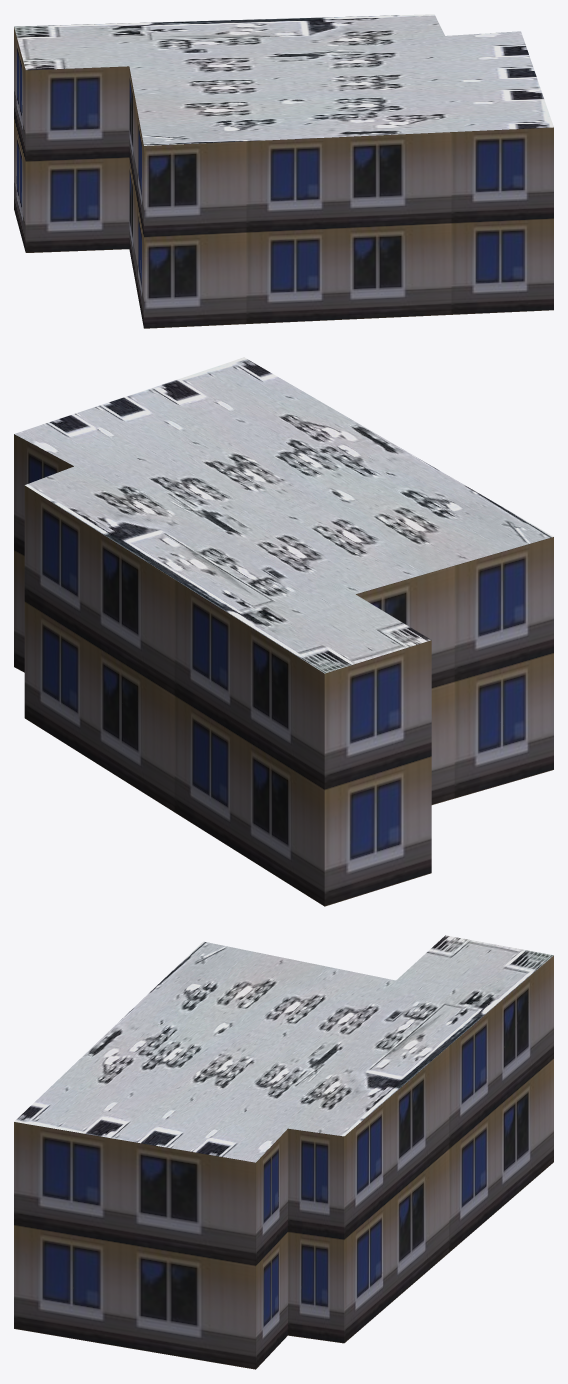
File: ResTex__2674.fbx
3 renders of one model, top to bottom at view 1: azimuth 30°, elevation 25°; view 2: azimuth 150°, elevation 25°; view 3: azimuth 270°, elevation 25°, orthographic. The views are drawn at different scales.
Parts seen in each view (by area): view 1: CityEngineMaterial_5_m, CityEngineMaterial_8_m; view 2: CityEngineMaterial_5_m, CityEngineMaterial_8_m; view 3: CityEngineMaterial_5_m, CityEngineMaterial_8_m.
Boxes of the visible parts, box(x1,y1,x2,y2) form: CityEngineMaterial_5_m: box(14, 27, 553, 328); CityEngineMaterial_8_m: box(14, 14, 553, 145); CityEngineMaterial_5_m: box(14, 434, 553, 906); CityEngineMaterial_8_m: box(14, 357, 553, 673); CityEngineMaterial_5_m: box(14, 955, 553, 1369); CityEngineMaterial_8_m: box(14, 935, 553, 1162).
Size of the model in its own units: 14.13 by 6 by 14.19.
Materials: 2 (2 with a texture image).
